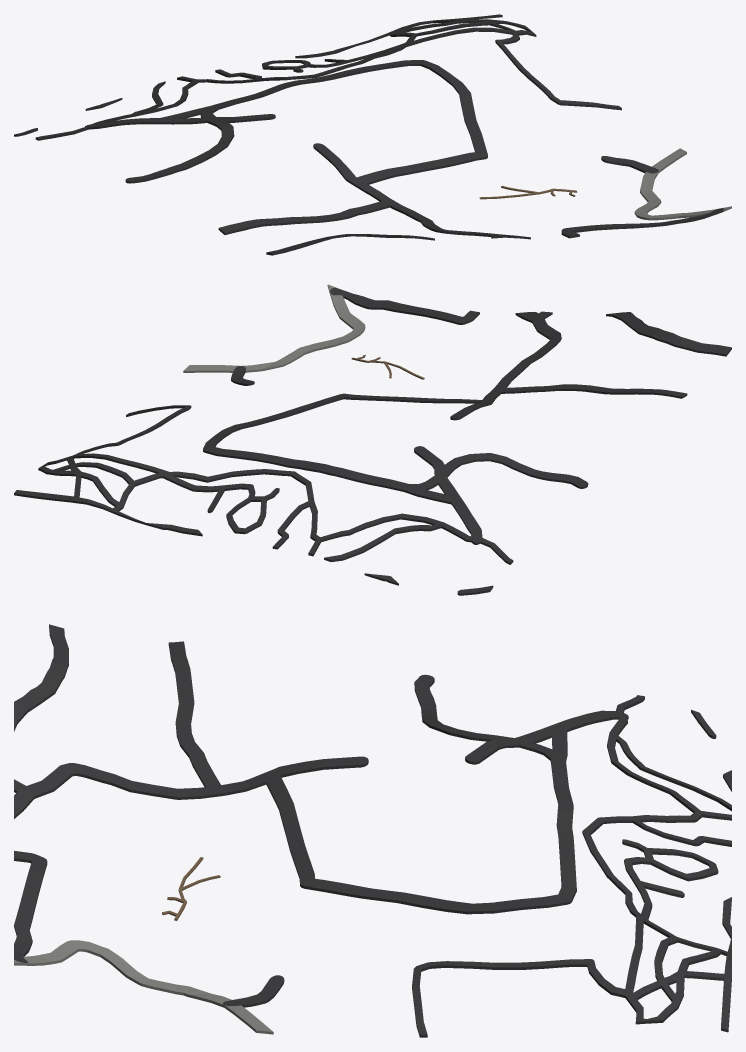
3 renders of one model, top to bottom at view 1: azimuth 30°, elevation 25°; view 2: azimuth 150°, elevation 25°; view 3: azimuth 270°, elevation 25°, orthographic. The views are drawn at different scales.
Bounding box in the file's own units: 293 × 49.04 × 292.
